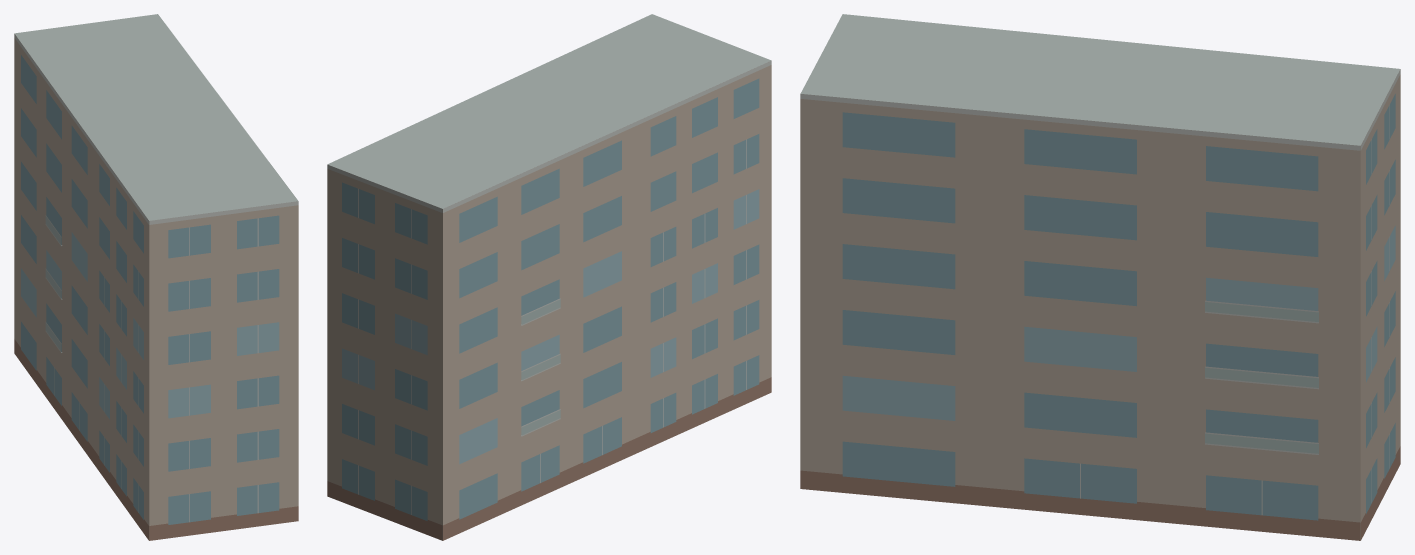
File: survey-upis-32899574.glb
The picture shows the model from 3 angles, left to right: view 1: azimuth 30°, elevation 25°; view 2: azimuth 150°, elevation 25°; view 3: azimuth 270°, elevation 25°; orthographic projection. The views are drawn at different scales.
Parts seen in each view (by area): view 1: survey-upis-32899574.tmp; view 2: survey-upis-32899574.tmp; view 3: survey-upis-32899574.tmp.
Boxes of the visible parts, x1,y1,x2,y2 form: survey-upis-32899574.tmp: (14,14,298,540); survey-upis-32899574.tmp: (327,14,771,540); survey-upis-32899574.tmp: (800,14,1400,540).
Size of the model in its own units: 13.71 by 19.15 by 26.37.
